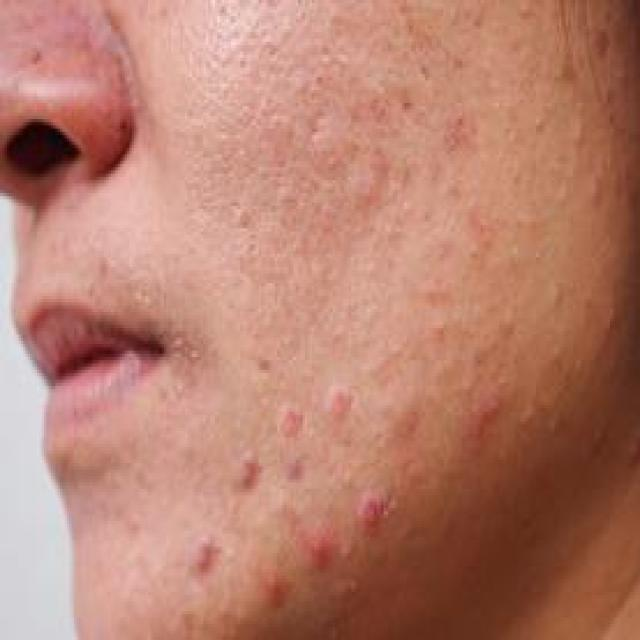blackheads: (300, 521, 335, 572), (356, 476, 386, 534), (275, 396, 305, 438), (323, 376, 349, 424), (192, 530, 217, 576), (256, 572, 286, 604), (233, 450, 259, 486)
